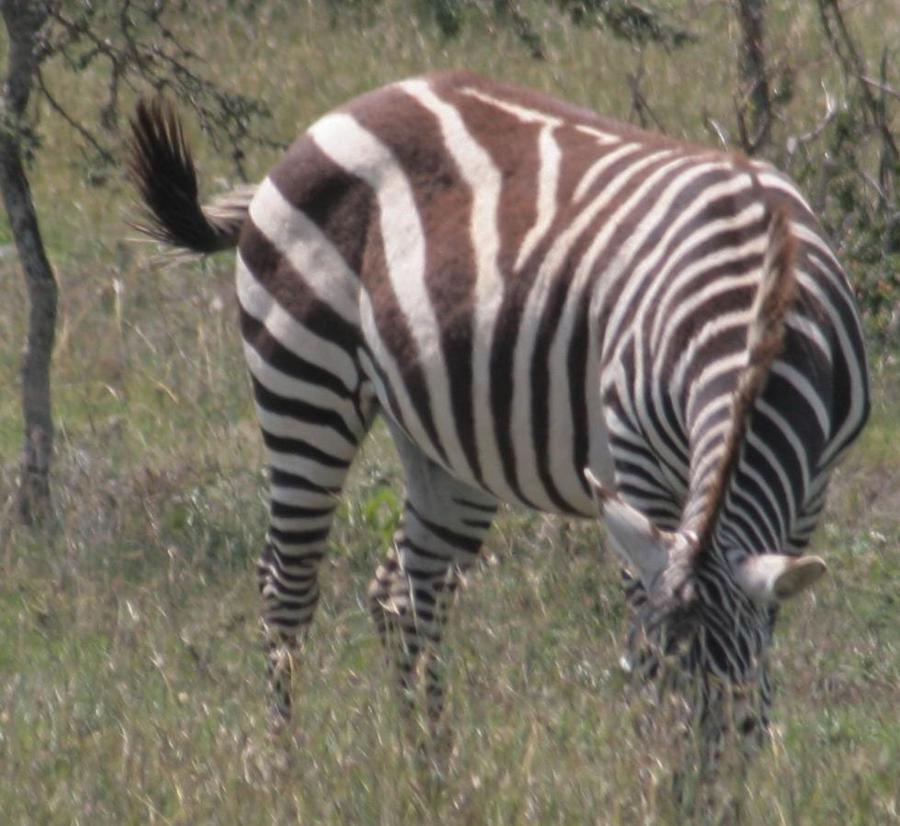zebra_plains: (245, 9, 721, 520)
